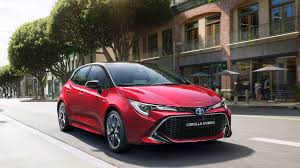Toyota: (60, 60, 228, 141)
